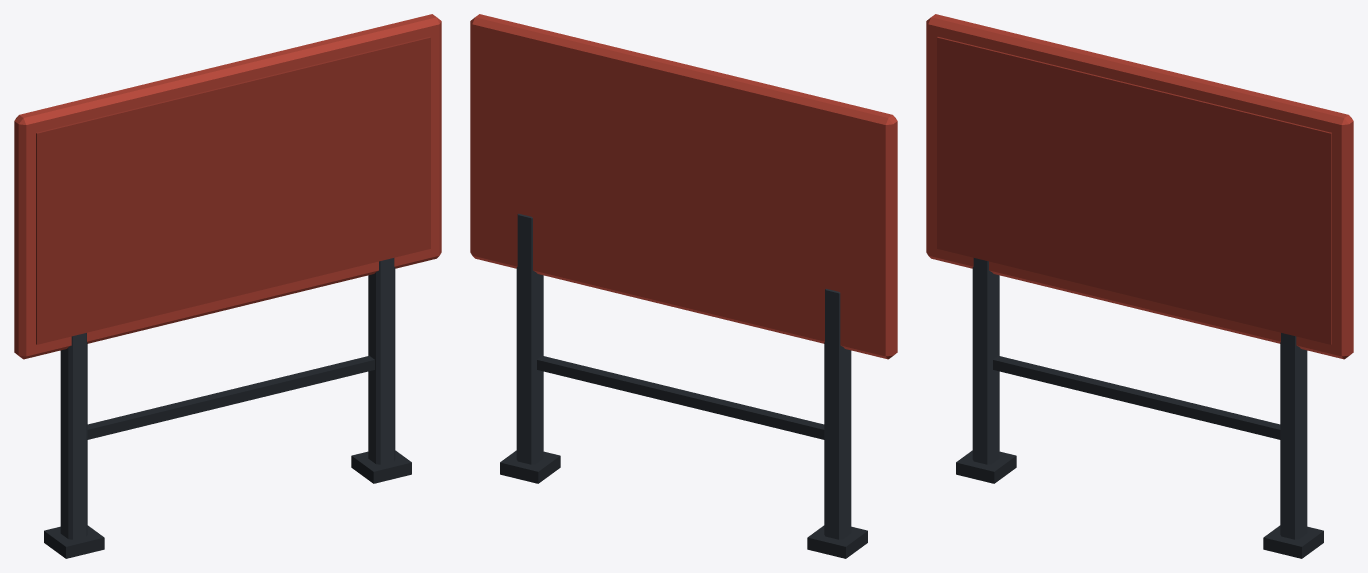
The model's file is prop_billboard_a.glb.
The picture shows the model from 3 angles, left to right: view 1: azimuth 30°, elevation 25°; view 2: azimuth 150°, elevation 25°; view 3: azimuth 330°, elevation 25°; orthographic projection.
Parts seen in each view (by area): view 1: prop; view 2: prop; view 3: prop.
Boxes of the visible parts, x1,y1,x2,y2 form: prop: (14, 14, 441, 558); prop: (470, 14, 897, 558); prop: (926, 14, 1353, 558).
Bounding box in the file's own units: 4.4 × 4.4 × 0.4.
